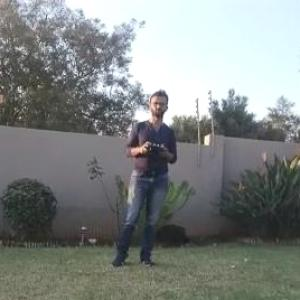follow: (102, 85, 179, 271)
